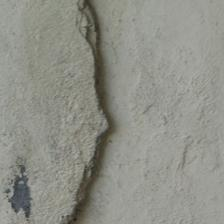Crack: (33, 2, 91, 219)
